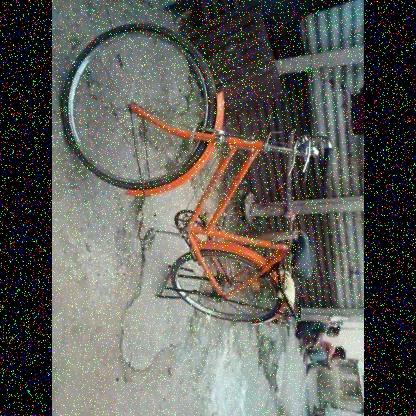Bicycle: (49, 12, 334, 340)
